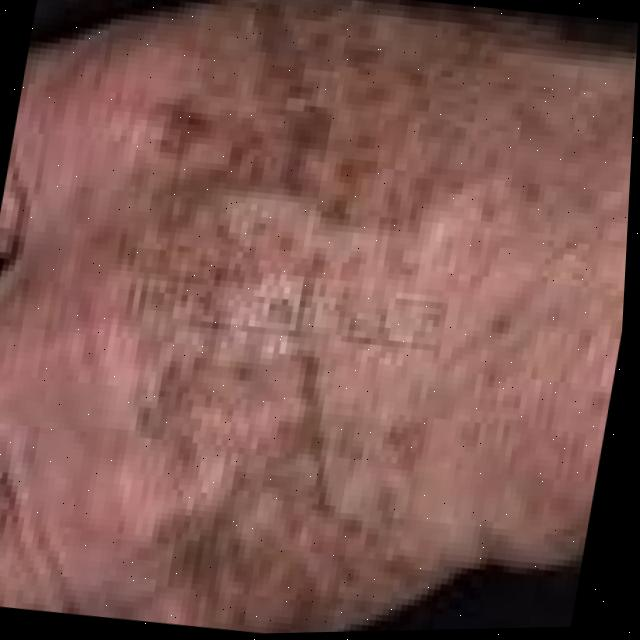Melasma: (60, 0, 552, 638)
